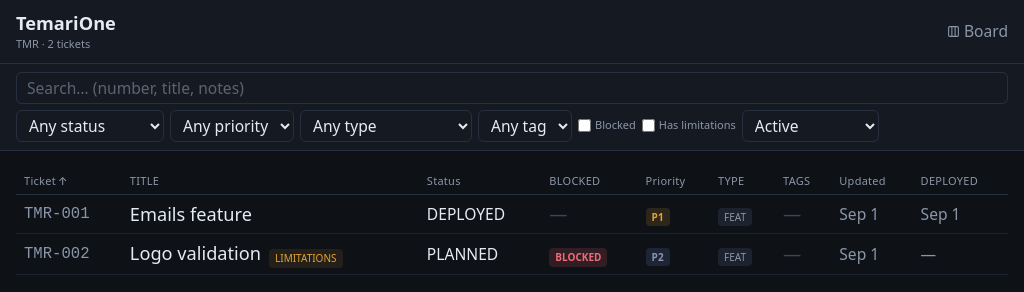
Test: ListPage › searches by title via the q filter
Check: the row with test id "list-row-TMR-001" is shown, box 16,195 -> 1008,234
Type "logo" into the field with test id "filter-q" at (512, 88), box 16,72 -> 1008,104
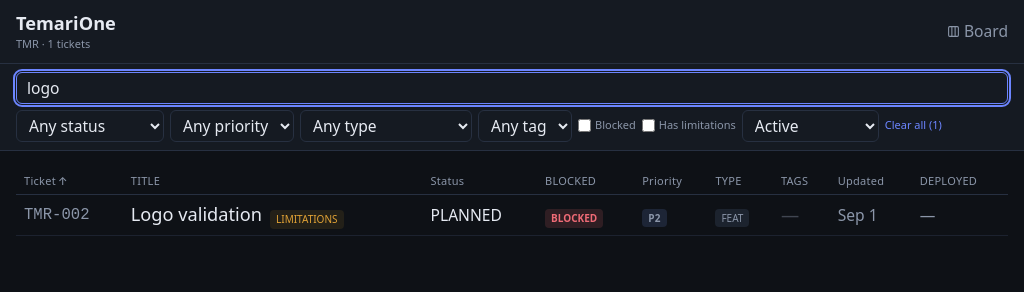
Check: the row with test id "list-row-TMR-002" is shown, box 16,195 -> 1008,236
Check: the row with test id "list-row-TMR-001" is gone
